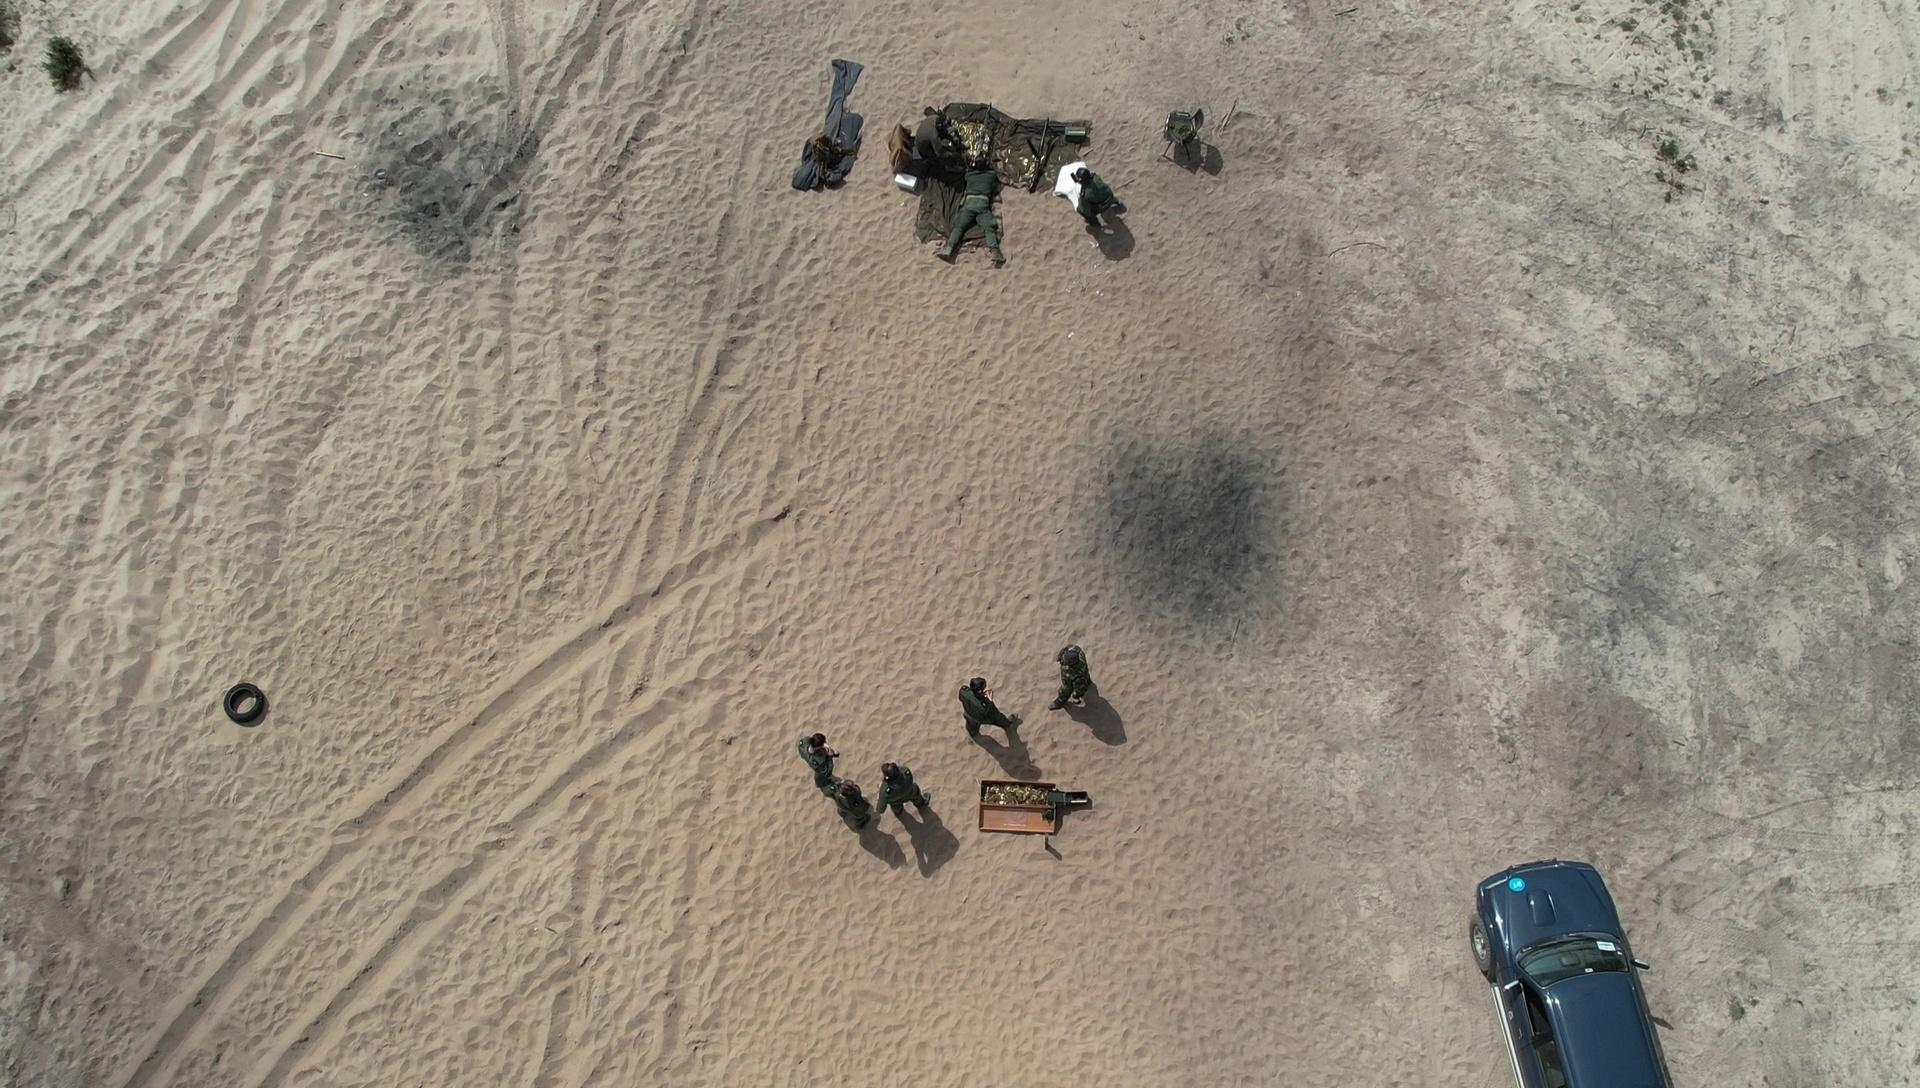Soldier: (948, 658, 1054, 764), (938, 149, 1009, 274), (1054, 154, 1147, 248), (877, 750, 953, 855), (890, 100, 973, 178), (1034, 621, 1109, 703), (822, 770, 878, 849), (790, 721, 848, 789)
